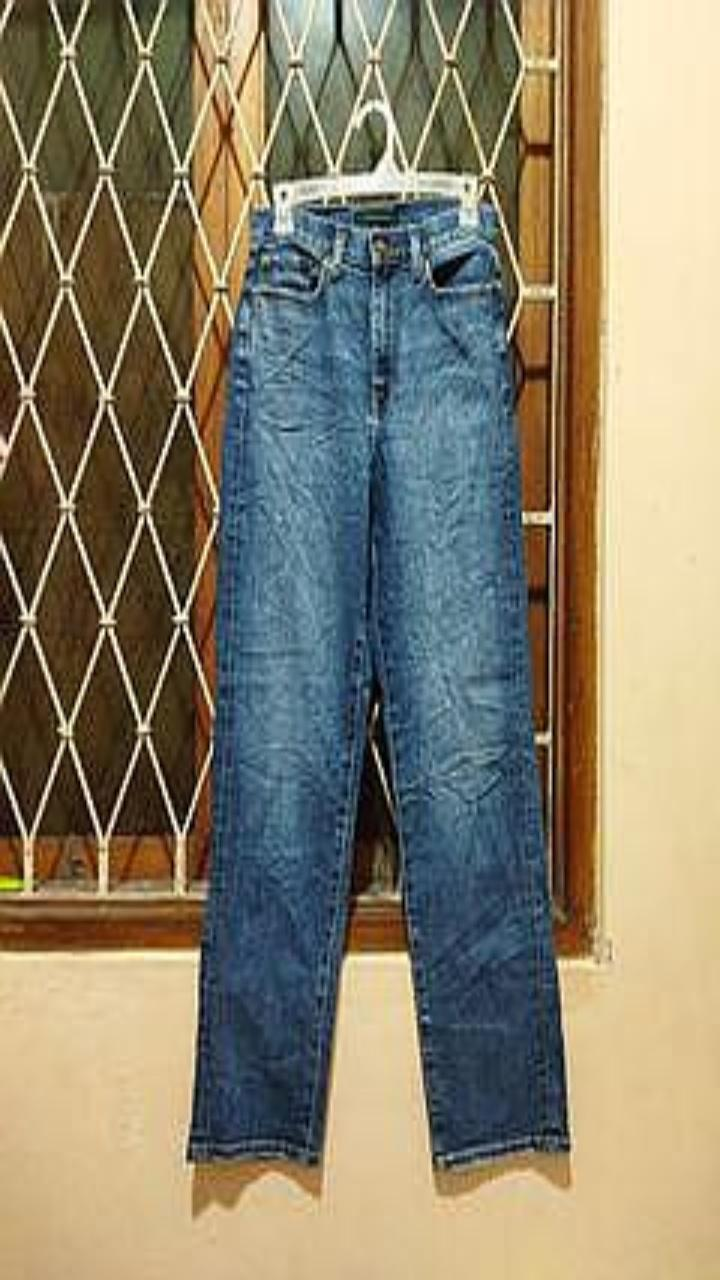Jeans: (186, 198, 569, 1167)
